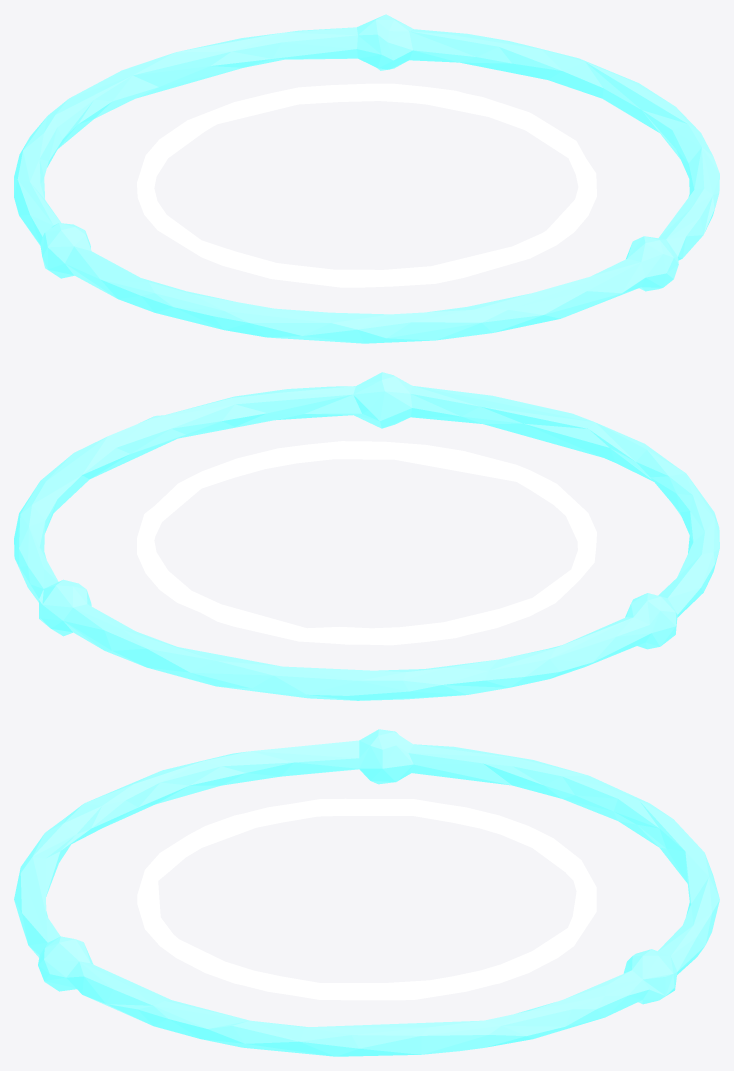
File: spellbook_sigil.glb
3 renders of one model, top to bottom at view 1: azimuth 30°, elevation 25°; view 2: azimuth 150°, elevation 25°; view 3: azimuth 270°, elevation 25°, orthographic.
Parts seen in each view (by area): view 1: spellbook_sigil; view 2: spellbook_sigil; view 3: spellbook_sigil.
Part boxes in pixels (box(x1,y1,x2,y2)): spellbook_sigil: box(14, 14, 719, 343); spellbook_sigil: box(14, 372, 719, 700); spellbook_sigil: box(14, 729, 719, 1056).
Bounding box in the file's own units: 0.5527 × 0.0415 × 0.5432.
